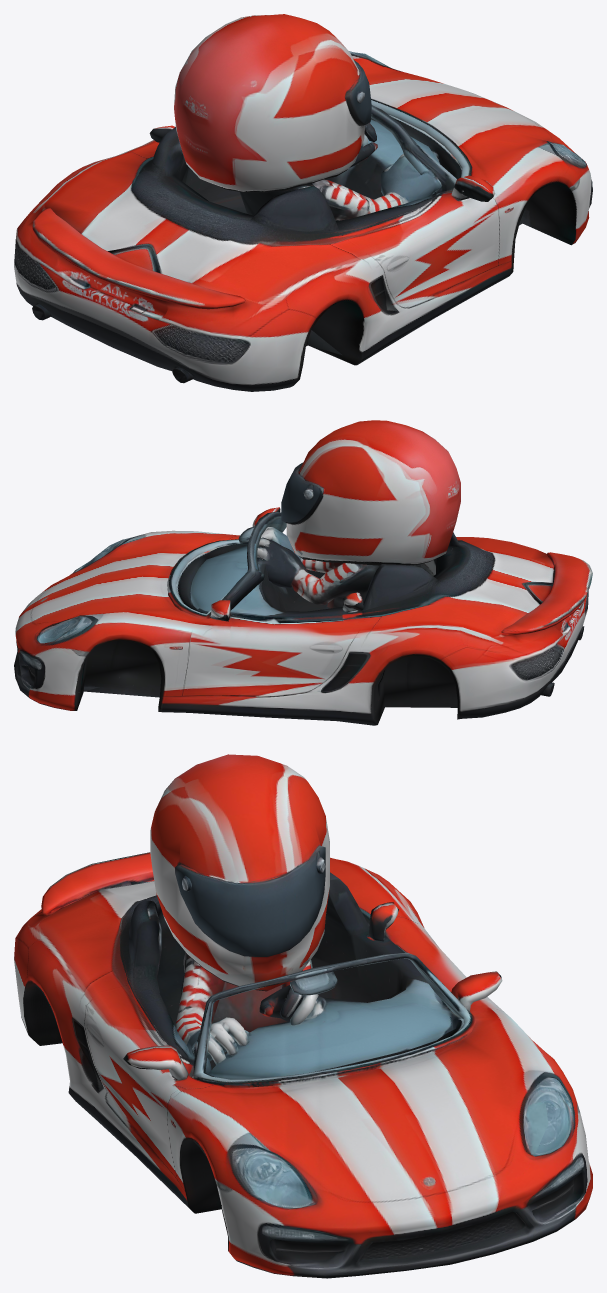
The model's file is ChatGPT_Image_7_juni_2026_10_5_Cartoon_racer_in_red_and_white_sports_car_Tripo_P1_Game_Ready_37bac121.glb.
3 renders of one model, top to bottom at view 1: azimuth 30°, elevation 25°; view 2: azimuth 150°, elevation 25°; view 3: azimuth 270°, elevation 25°, orthographic. The views are drawn at different scales.
Parts seen in each view (by area): view 1: tripo_node_0e678f83-f18f-4f86-955f-75a476b7c309; view 2: tripo_node_0e678f83-f18f-4f86-955f-75a476b7c309; view 3: tripo_node_0e678f83-f18f-4f86-955f-75a476b7c309.
Boxes of the visible parts, x1,y1,x2,y2 form: tripo_node_0e678f83-f18f-4f86-955f-75a476b7c309: [14, 14, 592, 391]; tripo_node_0e678f83-f18f-4f86-955f-75a476b7c309: [14, 420, 592, 725]; tripo_node_0e678f83-f18f-4f86-955f-75a476b7c309: [14, 754, 592, 1278].
Size of the model in its own units: 0.998 by 0.4941 by 0.7871.
1 material, 1 textured.
